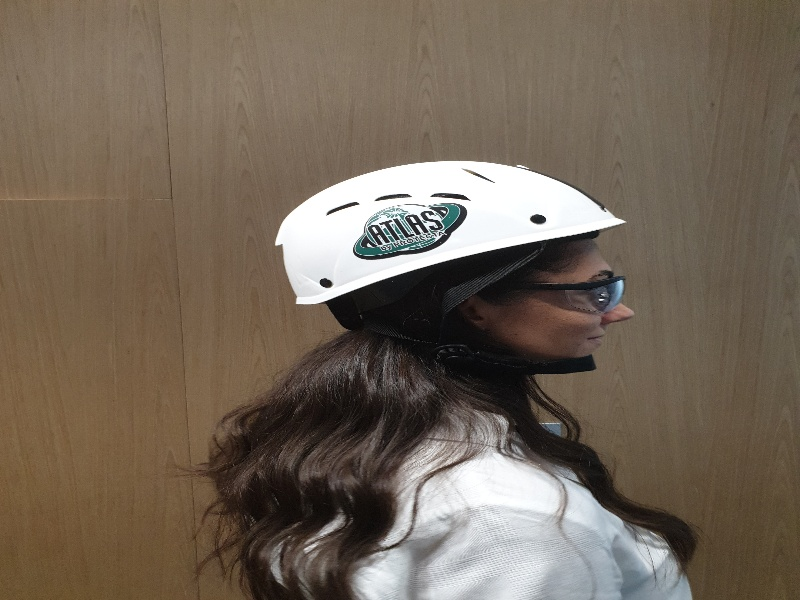Baret: (276, 161, 626, 301)
Gozluk: (478, 276, 627, 308)
